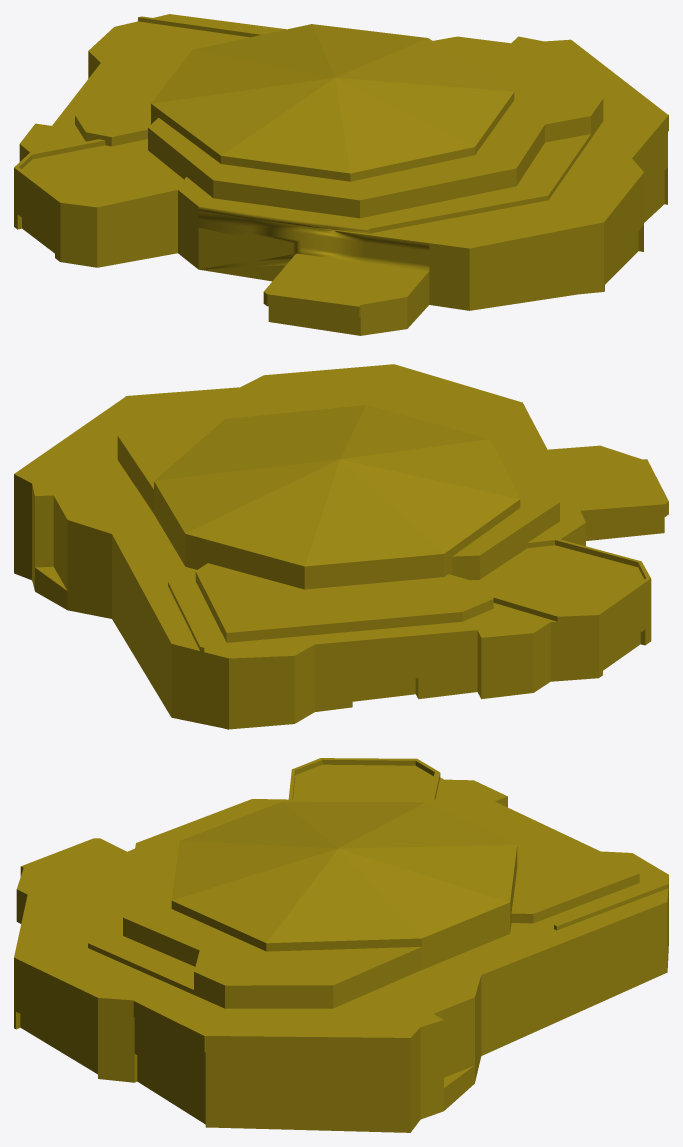
Rendered from Crucible_Theatre.fbx.
3 views of the same model, one above another, from view 1: azimuth 30°, elevation 25°; view 2: azimuth 150°, elevation 25°; view 3: azimuth 270°, elevation 25° (orthographic). The views are drawn at different scales.
Visible parts, largest first — view 1: Crucible_Theatre; view 2: Crucible_Theatre; view 3: Crucible_Theatre.
Boxes of the visible parts, x1,y1,x2,y2 form: Crucible_Theatre: (14,14,668,335); Crucible_Theatre: (14,364,668,729); Crucible_Theatre: (14,758,668,1132).
Bounding box in the file's own units: 319484 × 81231 × 321556.
